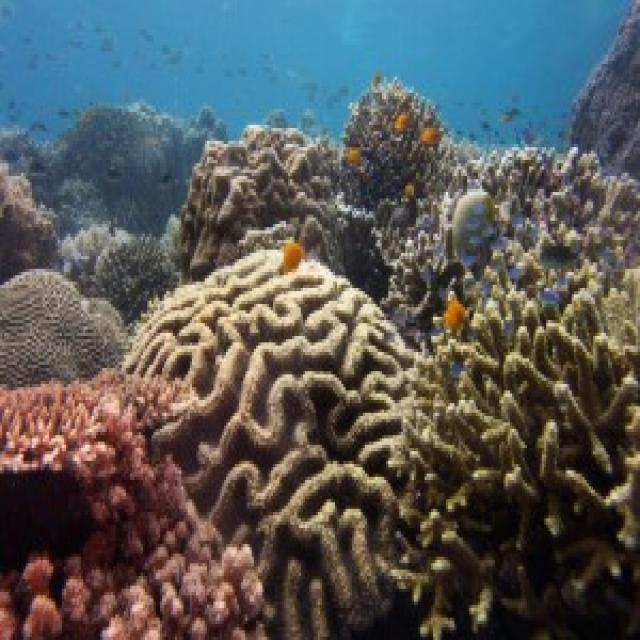Healthy: (125, 251, 411, 638), (411, 273, 639, 628), (1, 372, 263, 638), (180, 129, 336, 279), (483, 148, 639, 257), (379, 164, 479, 331), (1, 273, 129, 382), (342, 91, 440, 219), (97, 235, 178, 321), (596, 270, 639, 359)
